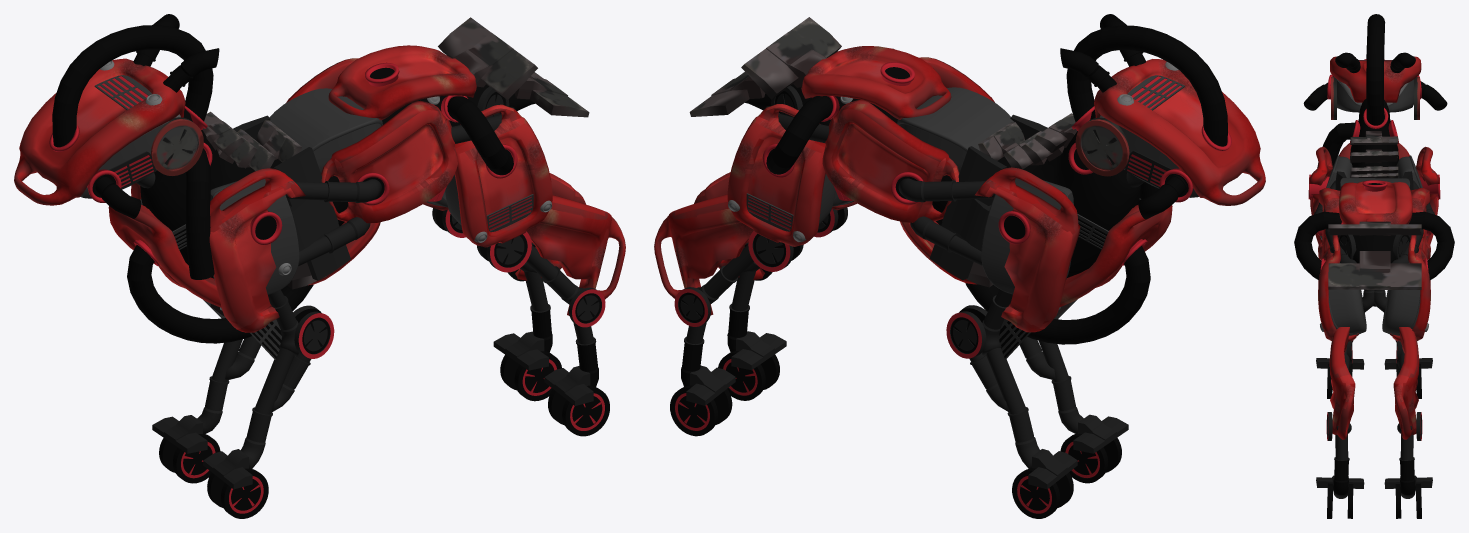
The model's file is Vacuumdog.fbx.
3 renders of one model, left to right at view 1: azimuth 30°, elevation 25°; view 2: azimuth 150°, elevation 25°; view 3: azimuth 270°, elevation 25°, orthographic. The views are drawn at different scales.
Visible parts, largest first — view 1: Vacuumfront.004, Rist.043, Rist.045, Rist.047, Vacuumfront.002, Bake.002, Rist.046, VacuumBack.006, Bake, Underbody, Cube.013, Rist.009 (+35 smaller); view 2: Vacuumfront.004, Rist.030, Rist.044, Rist.018, Vacuumfront.002, Bake.002, Underbody, Rist.038, VacuumBack.006, Bake, Cube.013, Rist.009 (+34 smaller); view 3: Cube.001, Bake.003, Rist.040, Vacuumfront.002, Rist.038, Rist.046, Bake.002, Vacuumfront.004, Underbody, Rist.008, Cube.013, Rist.047 (+34 smaller).
Boxes of the visible parts, x1,y1,x2,y2 form: Vacuumfront.004: (14, 58, 185, 205); Rist.043: (321, 100, 457, 223); Rist.045: (209, 168, 305, 332); Rist.047: (454, 104, 552, 247); Vacuumfront.002: (328, 45, 476, 120); Bake.002: (52, 25, 213, 147); Rist.046: (526, 195, 625, 315); VacuumBack.006: (258, 88, 382, 173); Bake: (127, 245, 313, 343); Underbody: (140, 84, 534, 278); Cube.013: (438, 17, 537, 99); Rist.009: (197, 339, 294, 468); Vacuumfront.004: (1094, 59, 1265, 205); Rist.030: (822, 100, 959, 222); Rist.044: (975, 167, 1080, 332); Rist.018: (727, 104, 825, 246); Vacuumfront.002: (801, 46, 951, 119); Bake.002: (1066, 25, 1227, 146); Underbody: (745, 84, 1140, 277); Rist.038: (654, 194, 753, 315); VacuumBack.006: (897, 87, 1021, 172); Bake: (965, 246, 1150, 344); Cube.013: (741, 17, 841, 99); Rist.009: (986, 340, 1083, 468); Cube.001: (1328, 251, 1421, 289); Bake.003: (1294, 211, 1454, 280); Rist.040: (1328, 262, 1420, 335); Vacuumfront.002: (1339, 181, 1412, 224); Rist.038: (1392, 327, 1419, 439); Rist.046: (1329, 327, 1356, 439); Bake.002: (1366, 14, 1385, 125); Vacuumfront.004: (1330, 56, 1421, 102); Underbody: (1350, 99, 1398, 263); Rist.008: (1333, 434, 1415, 498); Cube.013: (1328, 221, 1421, 235); Rist.047: (1318, 235, 1358, 341).
Bounding box in the file's own units: 665 × 532 × 223.
